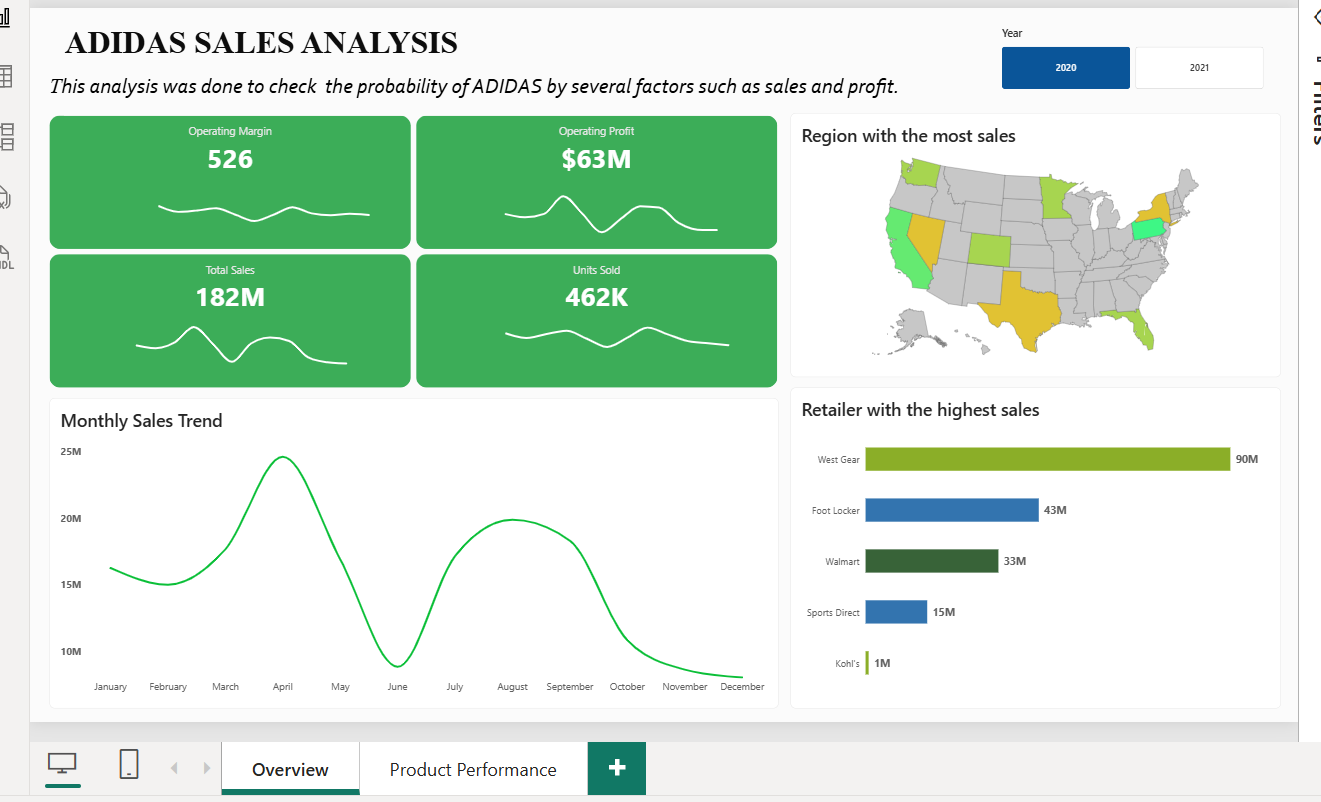

The page's visual inventory and layout, read from the dashboard file:
{"tool":"powerbi","page":{"name":"Overview","canvas":[1920,1080],"ordinal":0},"visuals":[{"type":"lineChart","title":"Monthly Sales Trend","fields":{"Category":["Data Sales Adidas.Invoice Date.Variation.Date Hierarchy.Month"],"Y":["Sum(Data Sales Adidas.Total Sales)"]},"box":[29.5,590.5,1103.9,470.2],"z":0},{"type":"advancedSlicerVisual","fields":{"Values":["Data Sales Adidas.Invoice Date.Variation.Date Hierarchy.Year"]},"box":[1471.8,27.3,397.5,95.4],"z":1000},{"type":"shapeMap","title":"Region with the most sales","fields":{"Category":["Data Sales Adidas.State"],"Value":["Sum(Data Sales Adidas.Total Sales)"]},"box":[1151.6,159,742.7,399.8],"z":2000},{"type":"textbox","box":[52.2,25,1080.7,96.7],"z":3000},{"type":"cardVisual","fields":{"Data":["Sum(Data Sales Adidas.Operating Margin)","Sum(Data Sales Adidas.Operating Profit)","Sum(Data Sales Adidas.Total Sales)","Sum(Data Sales Adidas.Units Sold)"]},"box":[29.5,147.6,1103.9,427],"z":4000},{"type":"barChart","title":"Retailer with the highest sales","fields":{"Category":["Data Sales Adidas.Retailer"],"Y":["Sum(Data Sales Adidas.Total Sales)"]},"box":[1151.6,574.6,742.7,486.1],"z":5000},{"type":"textbox","box":[29.5,97.7,1326.4,50],"z":6000},{"type":"lineChart","fields":{"Category":["Data Sales Adidas.Invoice Date.Variation.Date Hierarchy.Month"],"Y":["Sum(Data Sales Adidas.Operating Margin)"]},"box":[168.1,268,372.5,81.8],"z":7000},{"type":"lineChart","fields":{"Category":["Data Sales Adidas.Invoice Date.Variation.Date Hierarchy.Month"],"Y":["Sum(Data Sales Adidas.Operating Profit)"]},"box":[692.7,256.7,374.8,102.2],"z":8000},{"type":"lineChart","fields":{"Category":["Data Sales Adidas.Invoice Date.Variation.Date Hierarchy.Month"],"Y":["Sum(Data Sales Adidas.Total Sales)"]},"box":[134,458.8,372.5,106.8],"z":9000},{"type":"lineChart","fields":{"Category":["Data Sales Adidas.Invoice Date.Variation.Date Hierarchy.Month"],"Y":["Sum(Data Sales Adidas.Units Sold)"]},"box":[692.7,449.7,392.9,90.9],"z":10000}]}

Visuals, with their boxes on the page's 1920x1080 design canvas (x1, y1, x2, y2). These are canvas units, not pixel positions in the 1321x802 screenshot, which may show the page scaled, cropped or inside an application window:
"Monthly Sales Trend" lineChart: l=30, t=590, r=1133, b=1061
advancedSlicerVisual - Data Sales Adidas.Invoice Date.Variation.Date Hierarchy.Year: l=1472, t=27, r=1869, b=123
"Region with the most sales" shapeMap: l=1152, t=159, r=1894, b=559
textbox: l=52, t=25, r=1133, b=122
cardVisual - Sum(Data Sales Adidas.Operating Margin) x Sum(Data Sales Adidas.Operating Profit): l=30, t=148, r=1133, b=575
"Retailer with the highest sales" barChart: l=1152, t=575, r=1894, b=1061
textbox: l=30, t=98, r=1356, b=148
lineChart - Data Sales Adidas.Invoice Date.Variation.Date Hierarchy.Month x Sum(Data Sales Adidas.Operating Margin): l=168, t=268, r=541, b=350
lineChart - Data Sales Adidas.Invoice Date.Variation.Date Hierarchy.Month x Sum(Data Sales Adidas.Operating Profit): l=693, t=257, r=1068, b=359
lineChart - Data Sales Adidas.Invoice Date.Variation.Date Hierarchy.Month x Sum(Data Sales Adidas.Total Sales): l=134, t=459, r=506, b=566
lineChart - Data Sales Adidas.Invoice Date.Variation.Date Hierarchy.Month x Sum(Data Sales Adidas.Units Sold): l=693, t=450, r=1086, b=541
